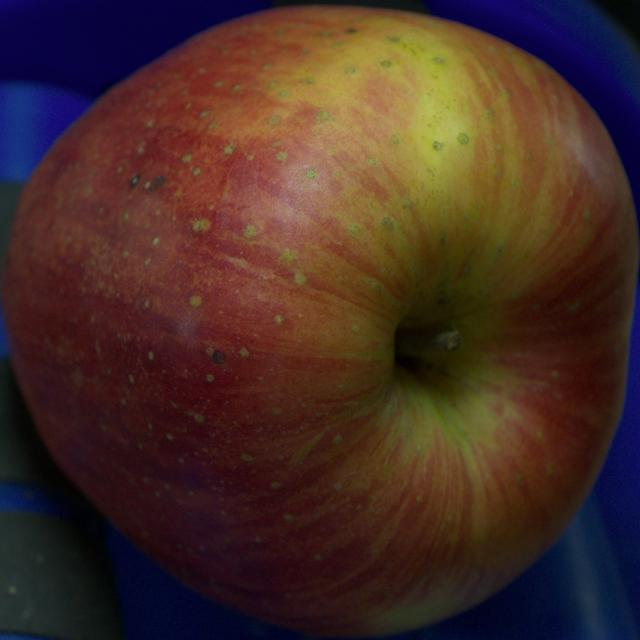apple: (2, 7, 639, 635)
pest: (148, 176, 164, 189), (212, 351, 225, 363), (130, 174, 139, 186)
